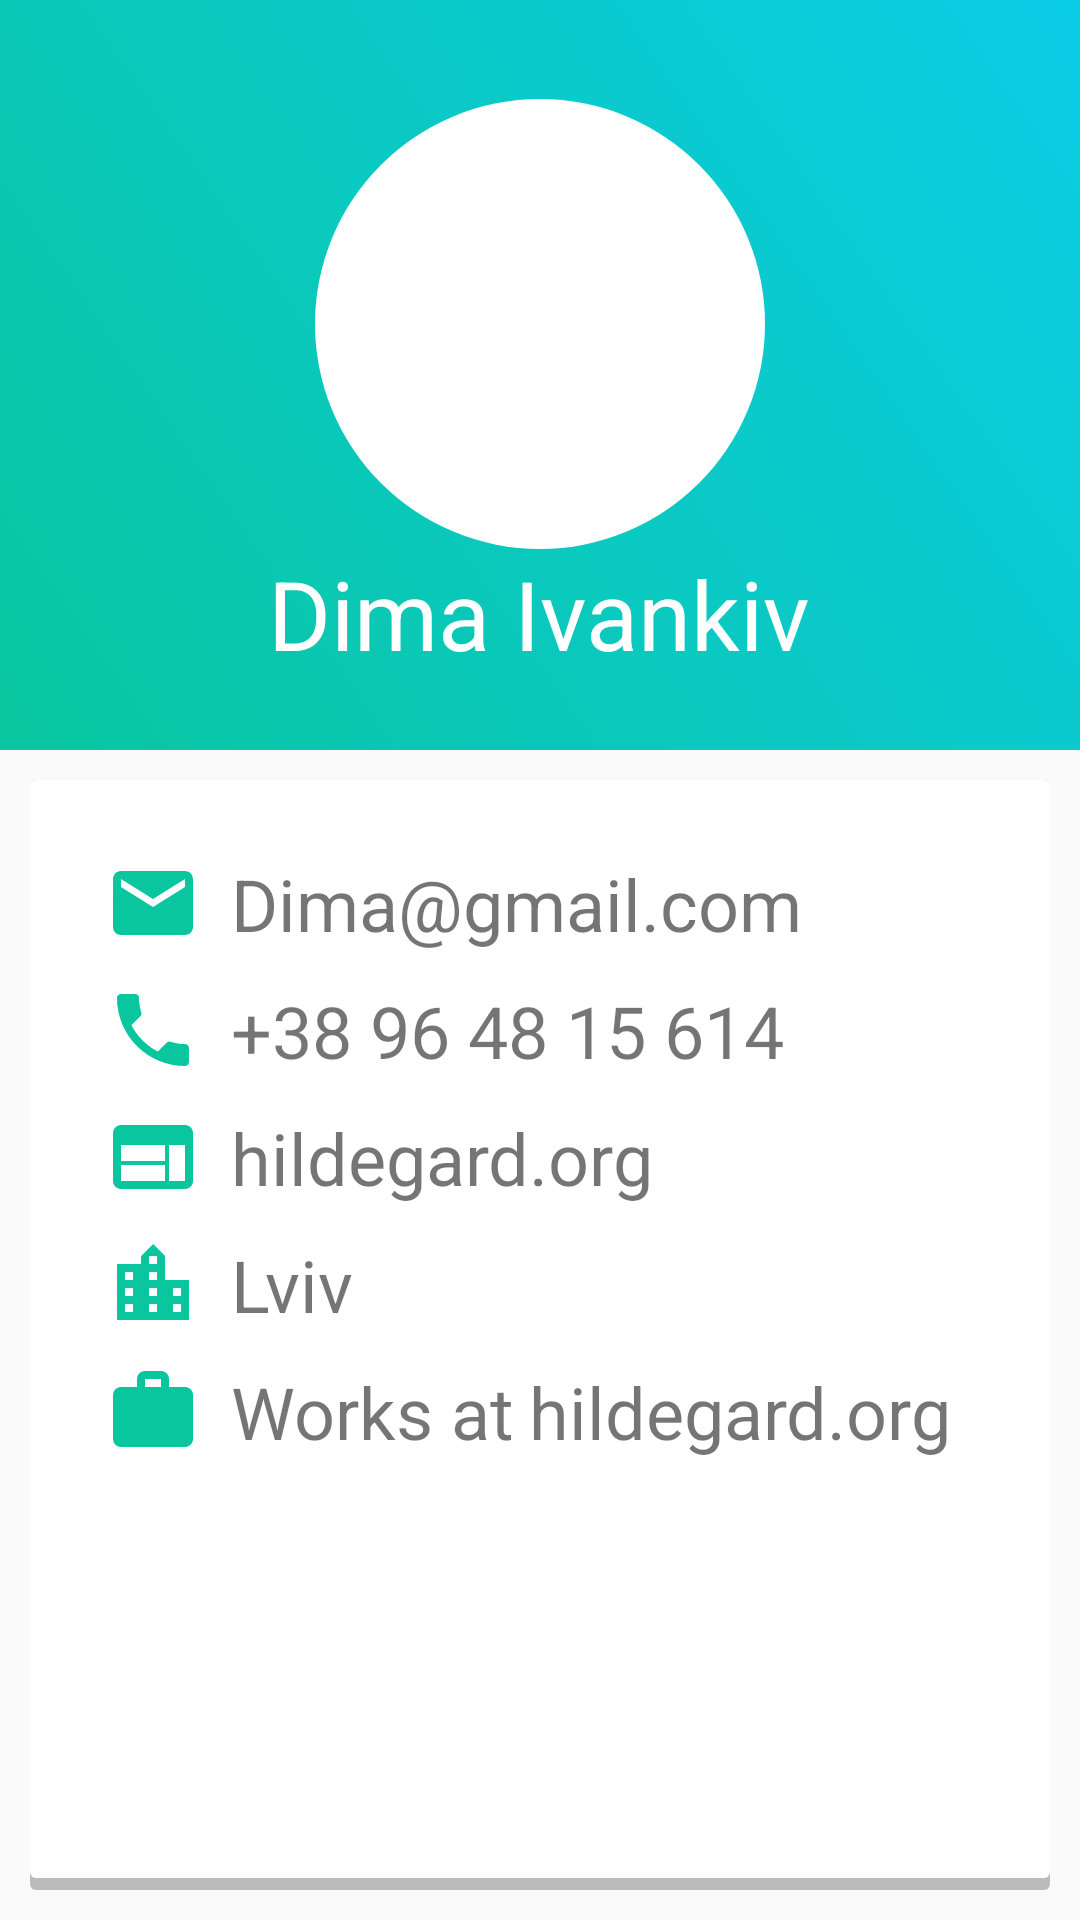

Screen size 1080×1920. Icon name, then its center in pixels as (x,y):
city: (153,1282)
email: (153,903)
job: (153,1409)
phone: (153,1030)
website: (153,1157)
